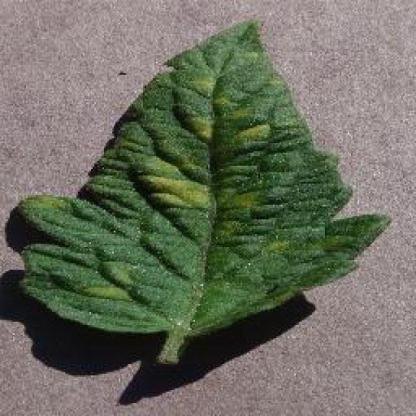Tomato_Leaf_Mold: (20, 20, 386, 332)
